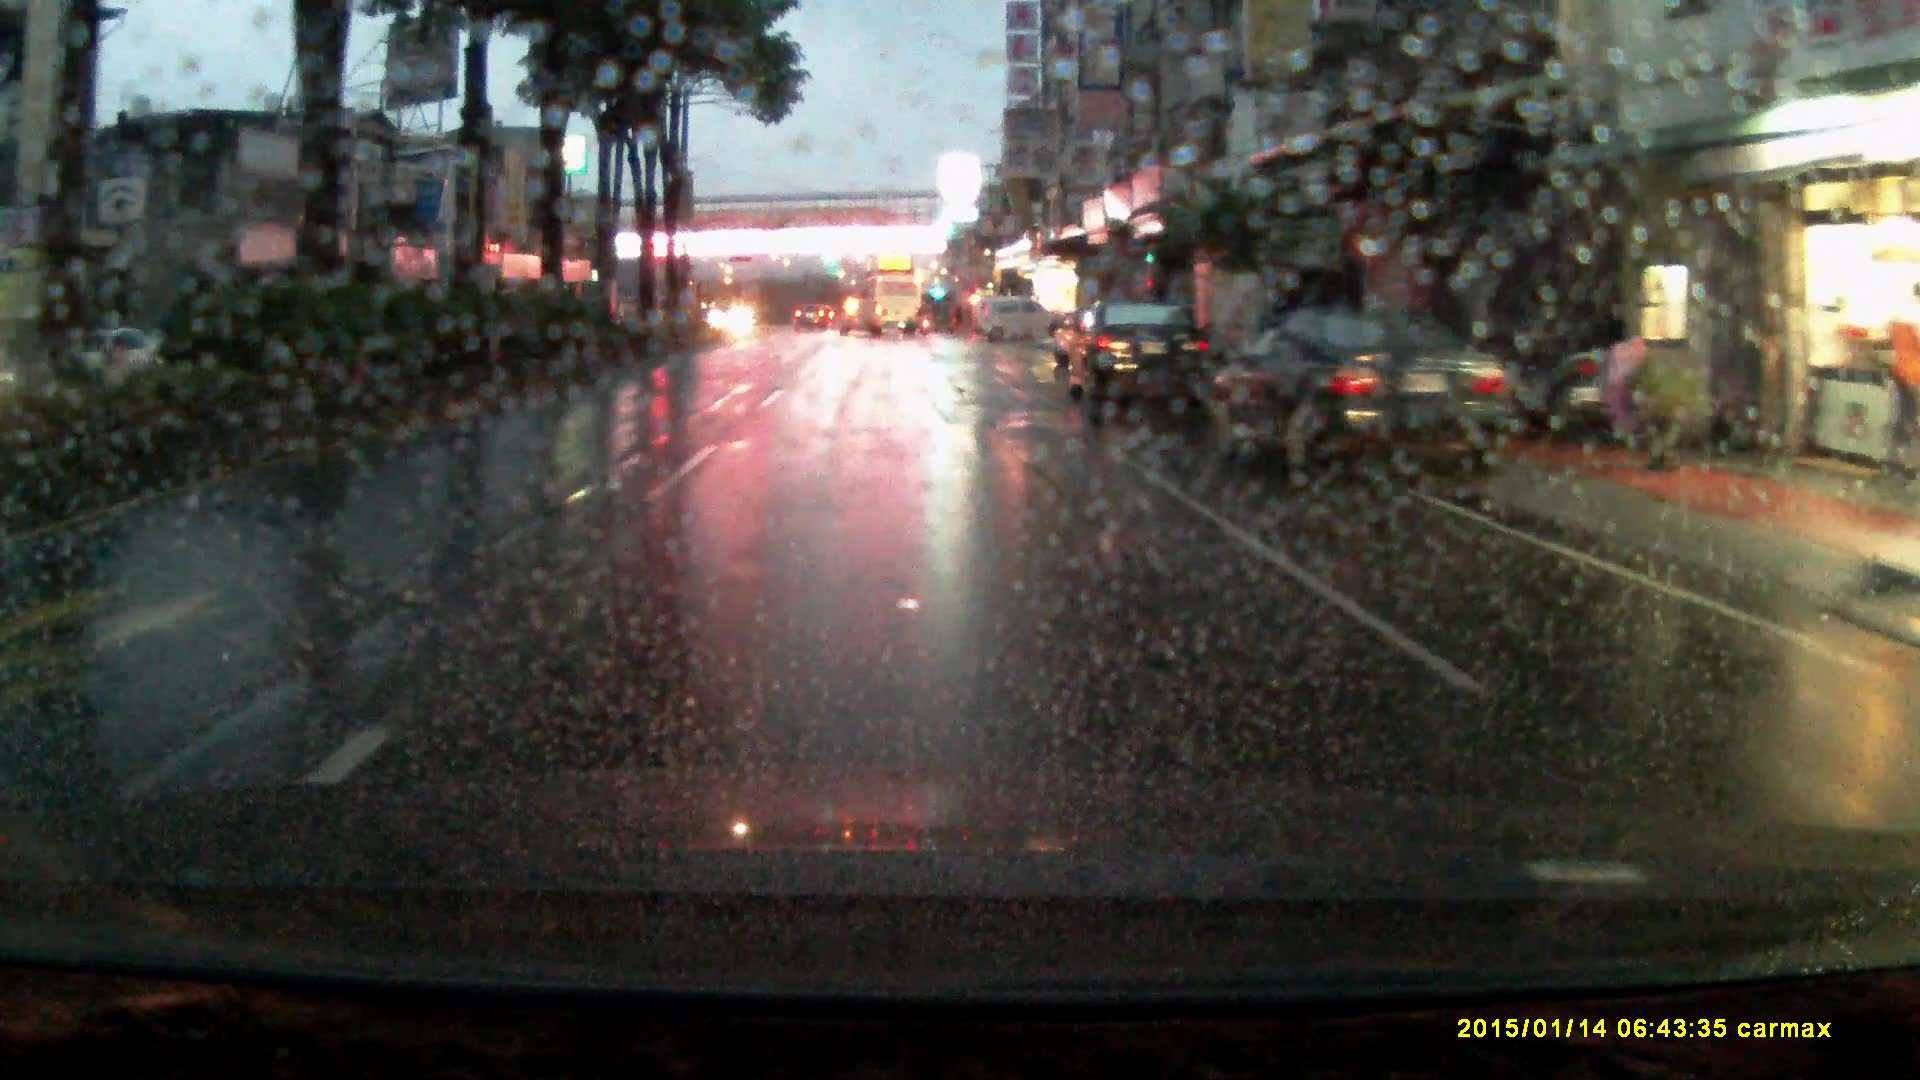vehicle: (1197, 305, 1534, 483), (1063, 291, 1220, 415), (30, 326, 167, 386), (978, 291, 1064, 345), (862, 270, 923, 334), (839, 295, 887, 338), (796, 301, 829, 330)
